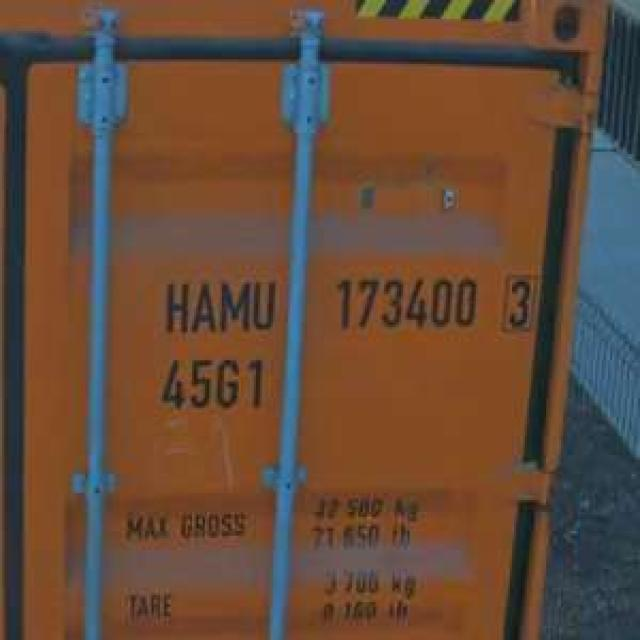dv: (494, 271, 538, 334)
owner: (154, 273, 279, 335)
serial: (329, 272, 480, 331)
size: (154, 354, 276, 414)
